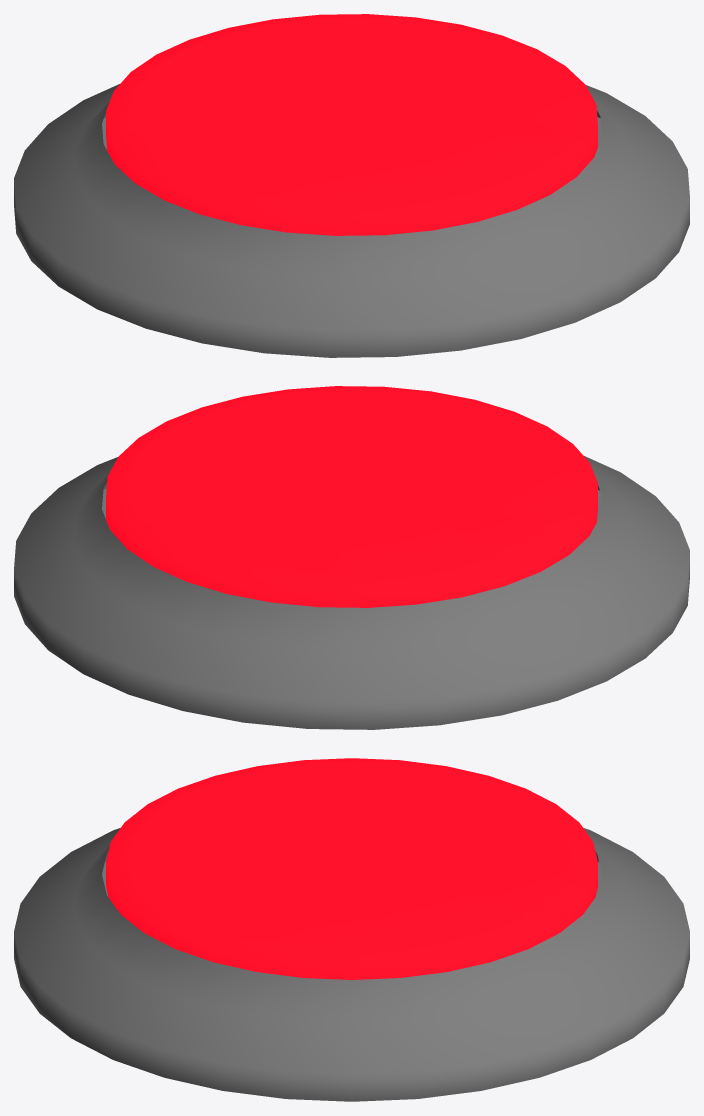
The model's file is BotonPortal.fbx.
The picture shows the model from 3 angles, top to bottom: view 1: azimuth 30°, elevation 25°; view 2: azimuth 150°, elevation 25°; view 3: azimuth 270°, elevation 25°; orthographic projection.
Parts seen in each view (by area): view 1: Cylinder, Cylinder.001; view 2: Cylinder, Cylinder.001; view 3: Cylinder, Cylinder.001.
Part boxes in pixels (box(x1,y1,x2,y2)): Cylinder: box(14, 84, 689, 357); Cylinder.001: box(106, 14, 597, 235); Cylinder: box(14, 456, 689, 729); Cylinder.001: box(106, 386, 597, 607); Cylinder: box(14, 828, 689, 1101); Cylinder.001: box(106, 758, 597, 979).
Bounding box in the file's own units: 319 × 58.61 × 319.
